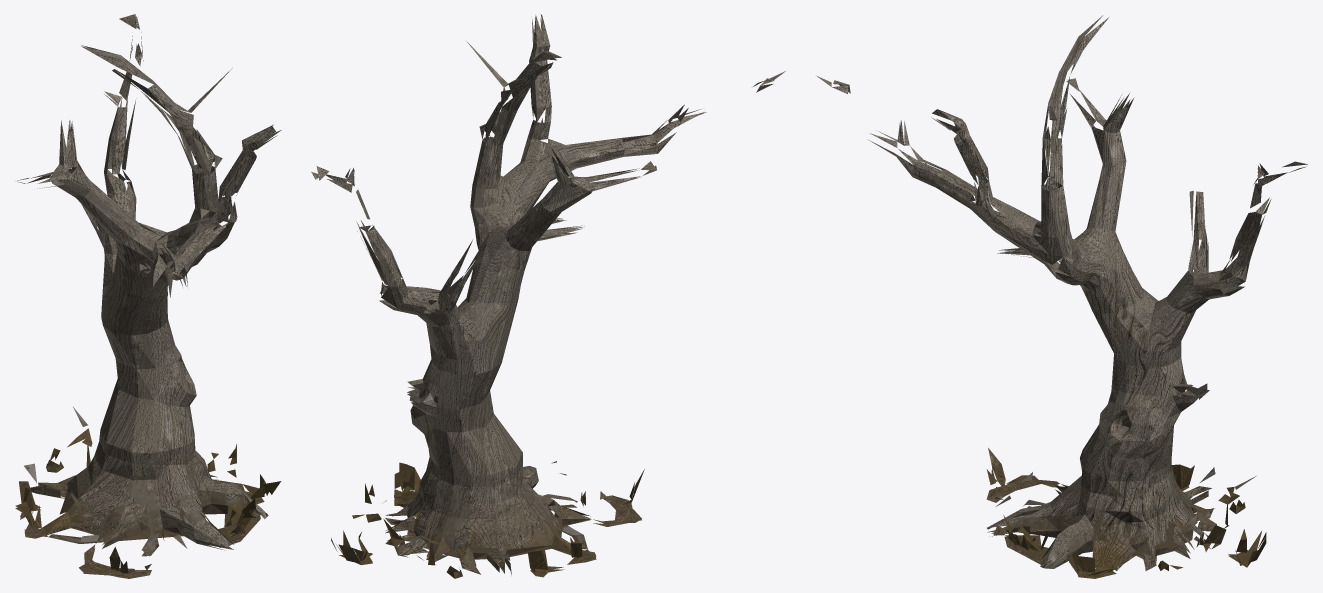
Rendered from tree_dead_LOD1.glb.
The picture shows the model from 3 angles, left to right: view 1: azimuth 30°, elevation 25°; view 2: azimuth 150°, elevation 25°; view 3: azimuth 270°, elevation 25°; orthographic projection.
Parts seen in each view (by area): view 1: tree_dead_LOD1; view 2: tree_dead_LOD1; view 3: tree_dead_LOD1.
Part boxes in pixels (x1,y1,x2,y2): tree_dead_LOD1: [15, 14, 281, 578]; tree_dead_LOD1: [311, 14, 785, 578]; tree_dead_LOD1: [816, 15, 1307, 578].
Size of the model in its own units: 0.4282 by 0.7607 by 0.704.
Materials: 1 (1 with a texture image).
